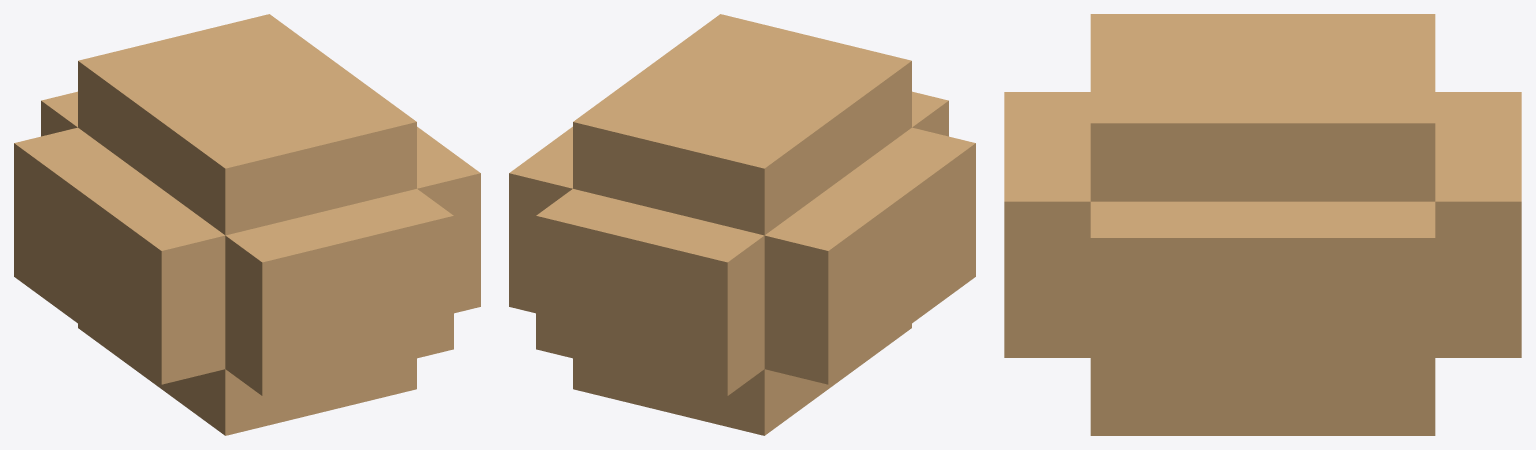
The model's file is humantemplatehands.obj.
The picture shows the model from 3 angles, left to right: view 1: azimuth 30°, elevation 25°; view 2: azimuth 150°, elevation 25°; view 3: azimuth 270°, elevation 25°; orthographic projection. The views are drawn at different scales.
Bounding box in the file's own units: 5 × 4 × 6.
1 material, 1 textured.
